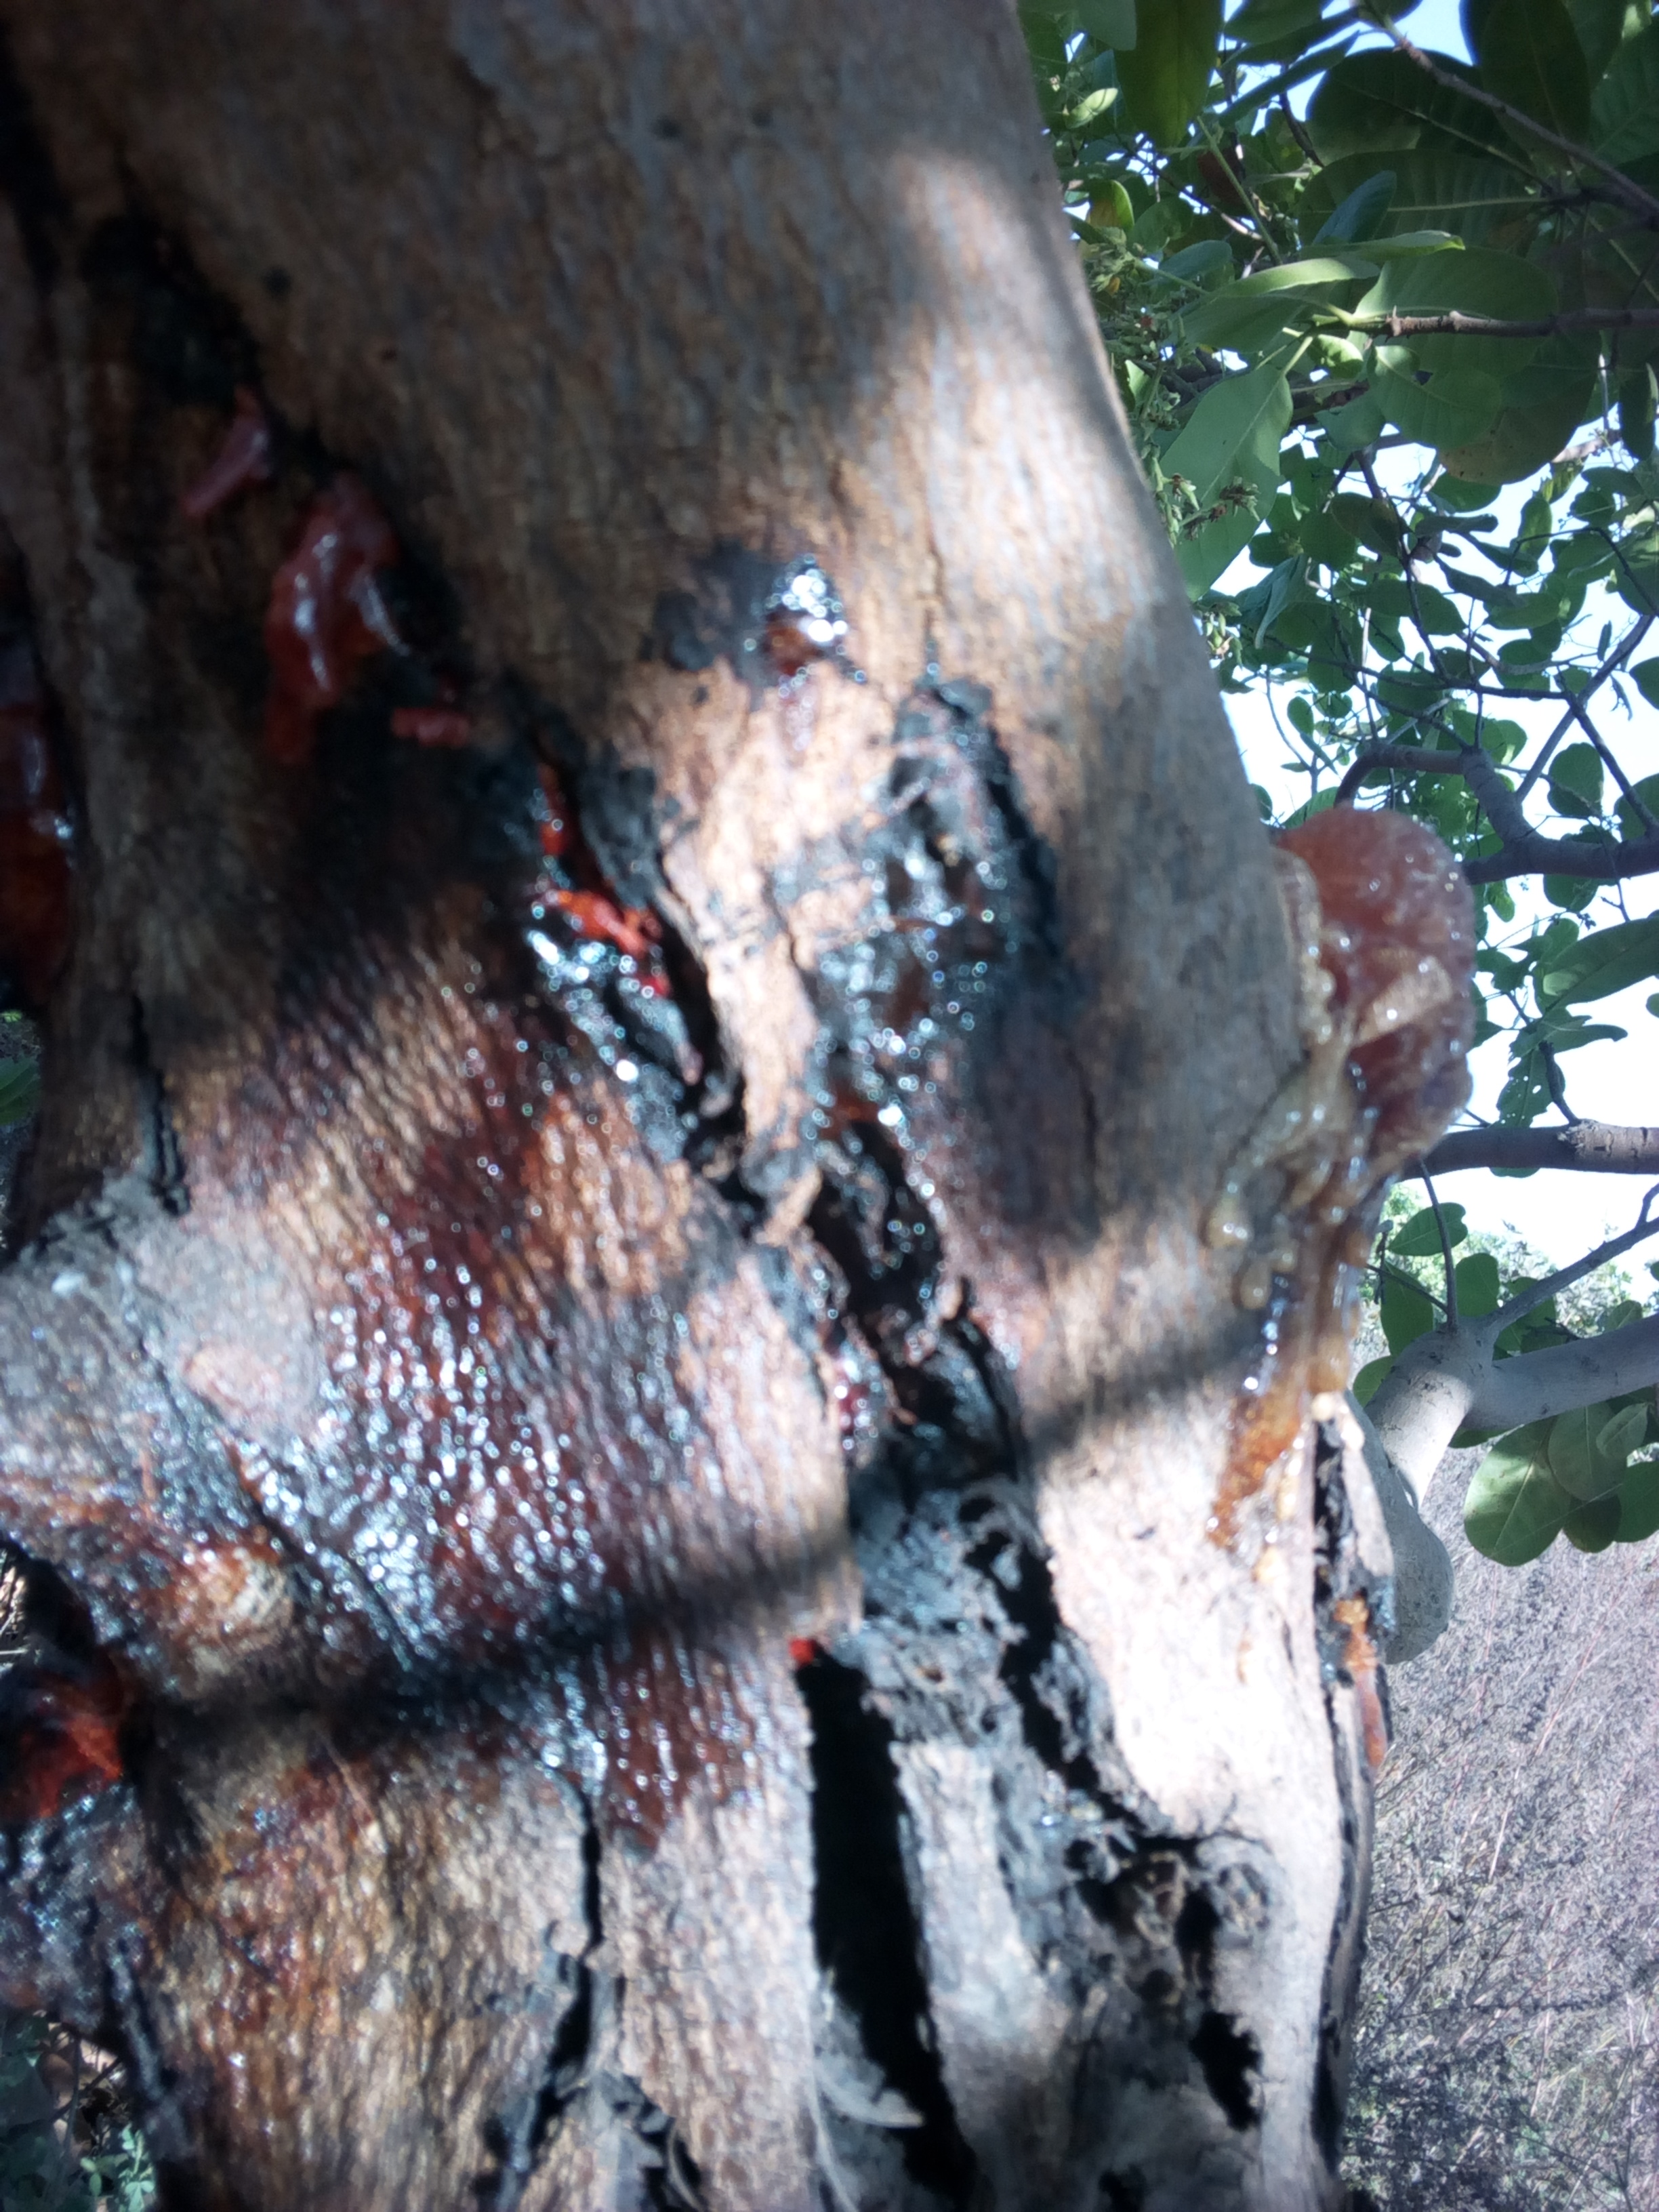Gommose: (94, 282, 1070, 2212)
